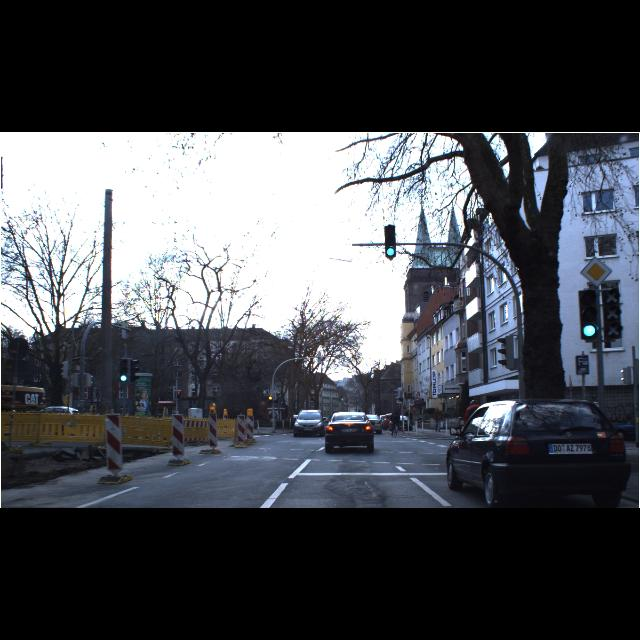other: (580, 256, 612, 288)
